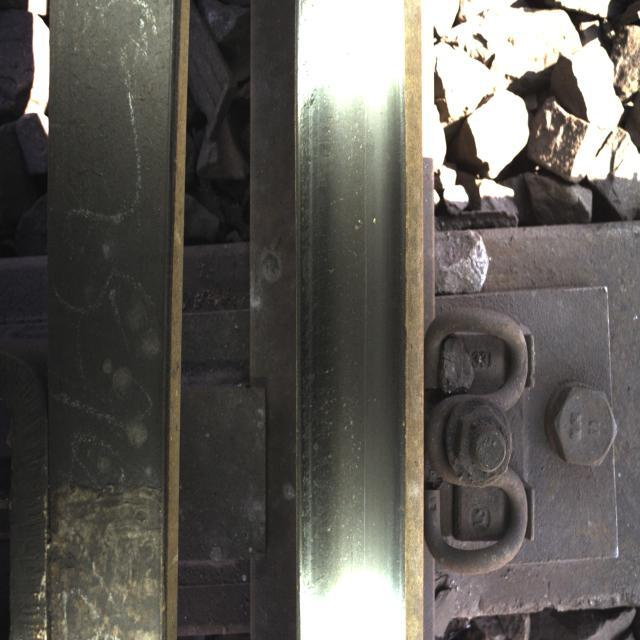break: (304, 16, 391, 594)
